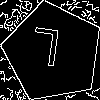L: (28, 27, 62, 76)
